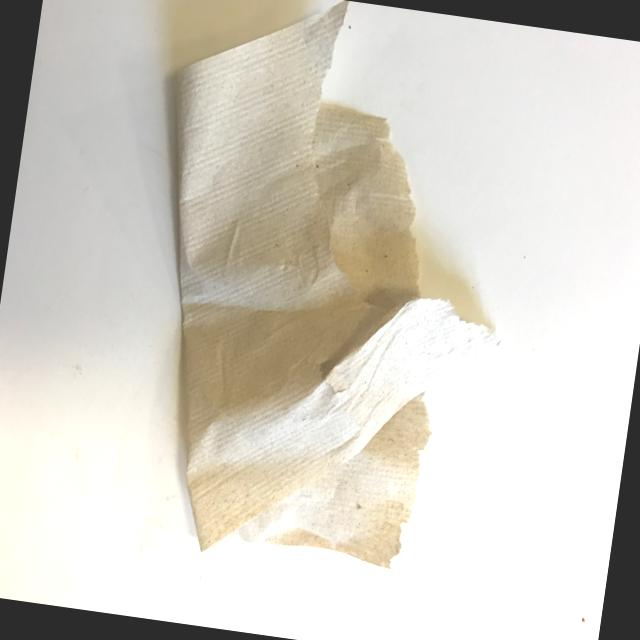Paper: (79, 0, 567, 600)
